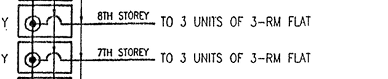Single Phase Tap-Off Unit: (11, 39, 81, 76), (14, 1, 77, 40)
